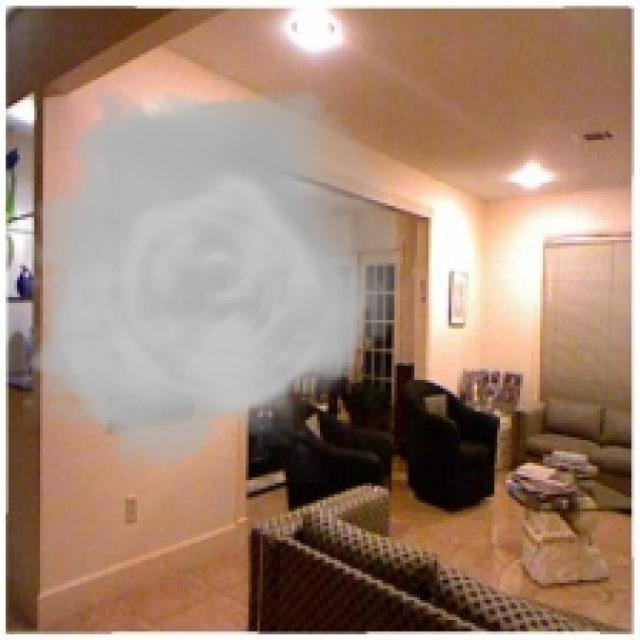smoke: (23, 68, 403, 483)
